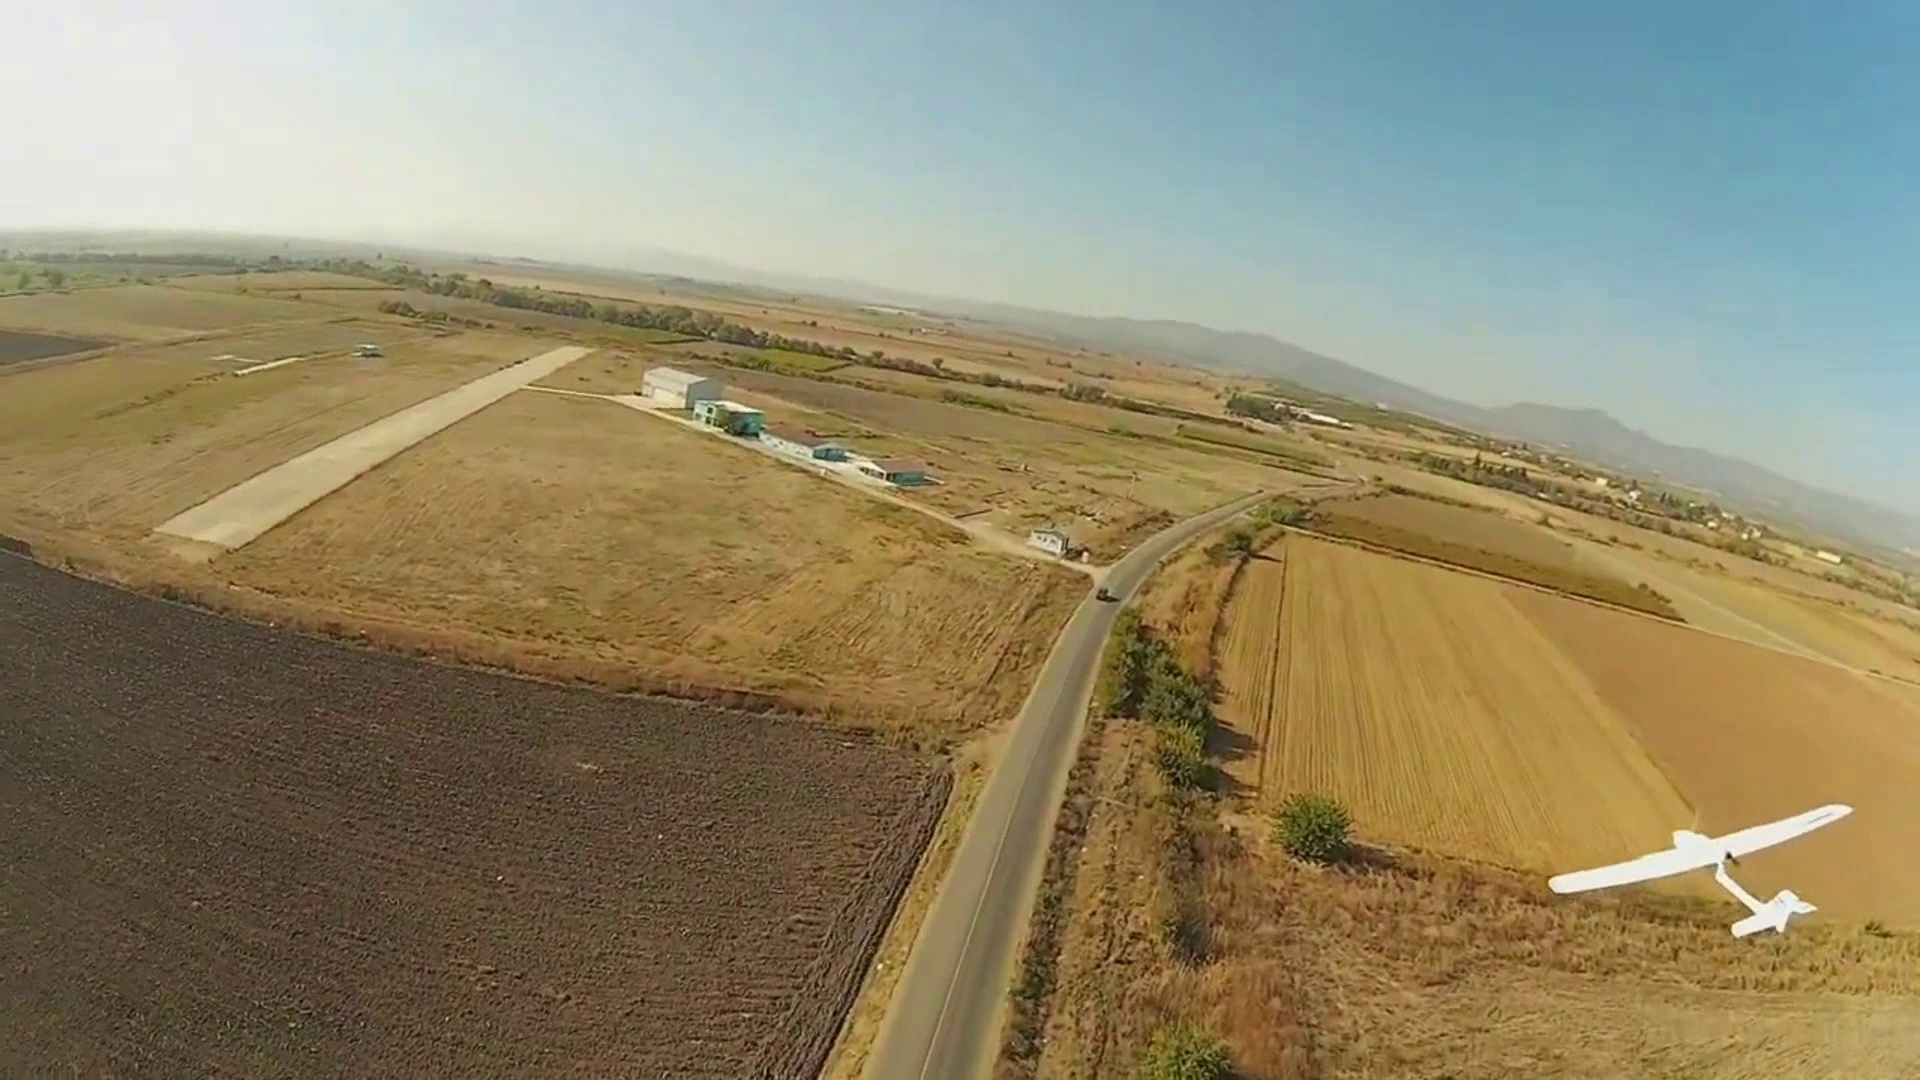airplane: (1545, 803, 1855, 942)
